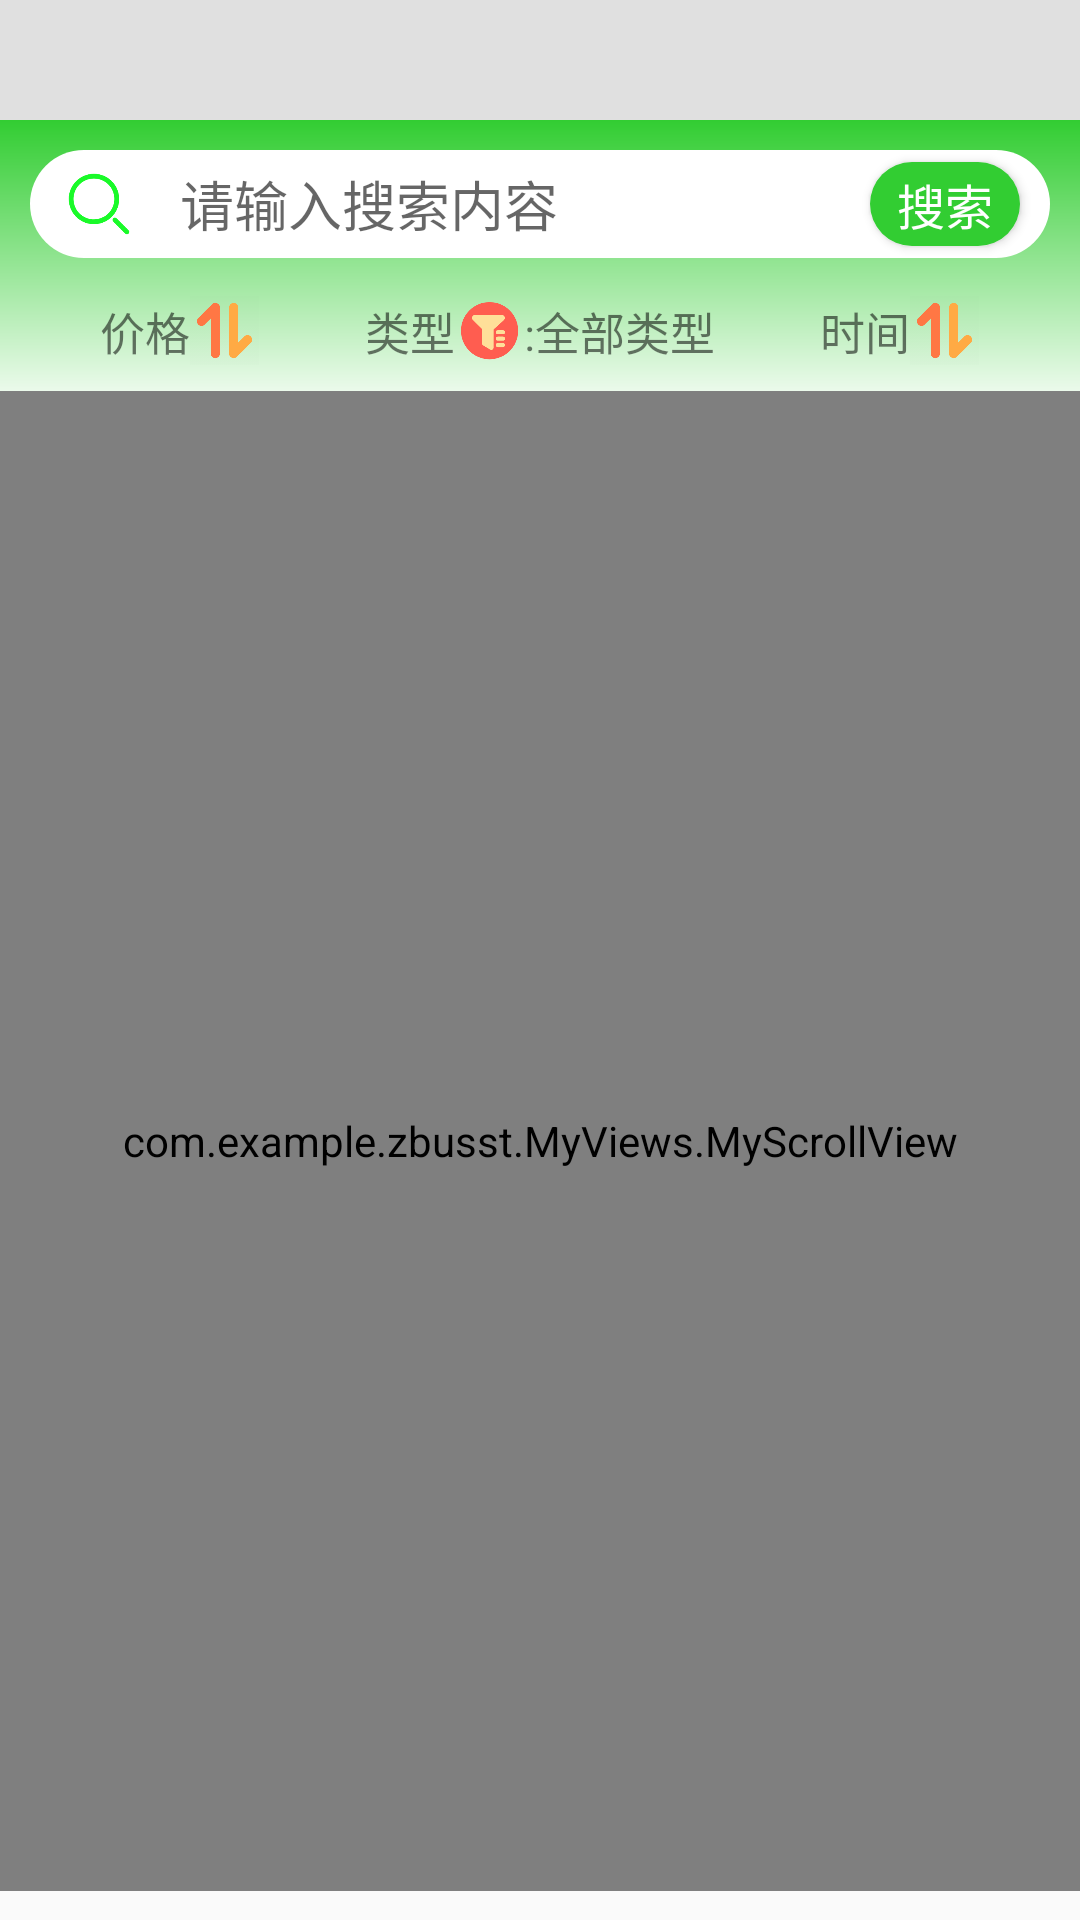

Icon click points for this 1080×1920 phone screenshot, format [x,y]:
paixu: [224,330], [944,330]
searchfangda: [99,203]
shaixuan: [489,330]
